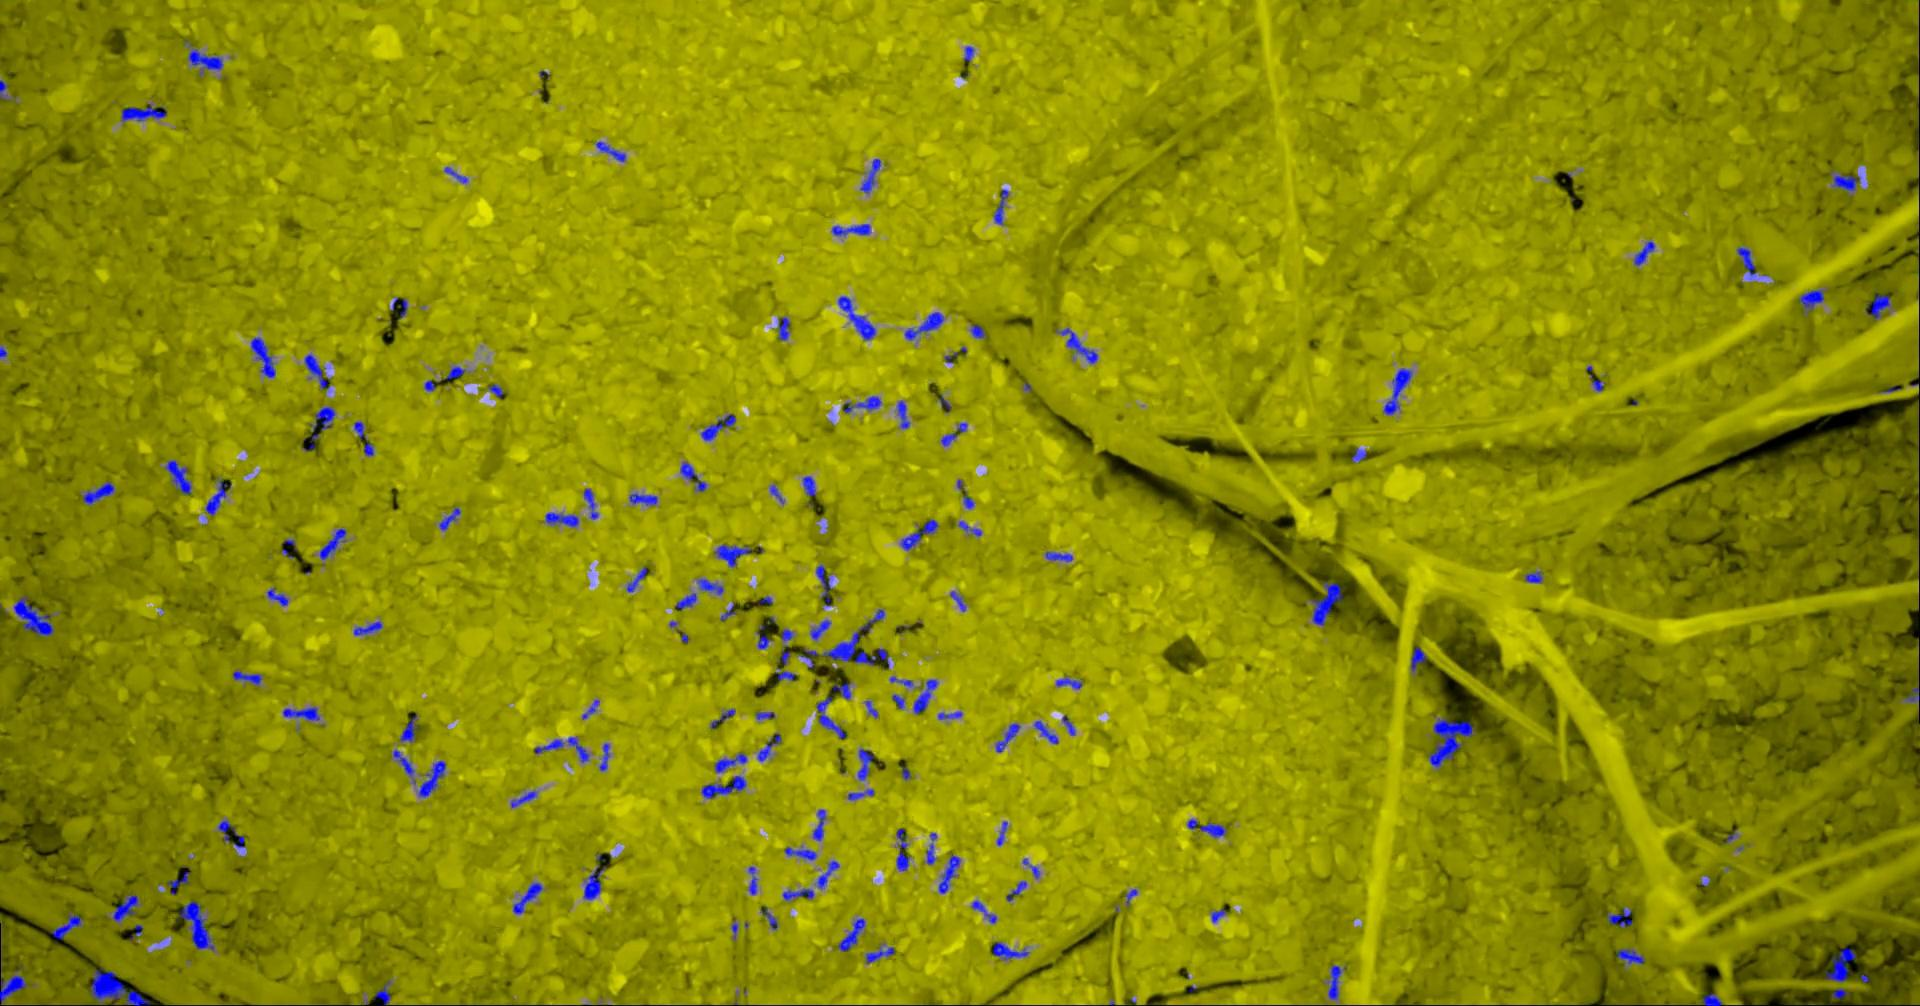ant: (797, 631, 888, 668), (1429, 716, 1476, 767), (0, 923, 28, 1005), (89, 969, 150, 1005), (178, 901, 213, 950), (13, 594, 53, 636), (837, 296, 875, 340), (1055, 326, 1097, 363), (1310, 580, 1343, 625), (535, 735, 589, 762), (302, 406, 335, 450), (1383, 368, 1412, 414), (817, 695, 844, 738), (900, 520, 938, 549), (904, 312, 943, 340), (700, 775, 745, 798), (250, 337, 276, 377), (1825, 948, 1855, 981), (188, 44, 222, 74), (204, 478, 231, 514), (418, 760, 444, 796), (512, 882, 542, 913), (700, 413, 735, 439), (164, 459, 190, 494), (303, 353, 329, 389), (837, 918, 863, 951), (912, 680, 937, 714), (938, 854, 960, 893), (714, 544, 750, 567), (319, 528, 345, 559), (51, 912, 81, 939), (121, 103, 165, 121), (679, 462, 706, 492), (583, 864, 604, 899), (83, 481, 114, 506), (217, 821, 245, 847), (858, 158, 880, 192), (1187, 818, 1225, 837), (996, 723, 1020, 752), (757, 732, 781, 761), (353, 420, 373, 455), (112, 894, 137, 921), (940, 422, 968, 446), (168, 864, 189, 894), (992, 941, 1029, 959), (842, 395, 881, 412), (714, 752, 745, 772), (815, 564, 830, 606), (817, 860, 839, 888), (1865, 293, 1890, 319), (858, 608, 884, 633), (1327, 964, 1345, 998), (1832, 174, 1860, 196), (596, 141, 625, 161), (1736, 246, 1756, 276), (895, 828, 909, 870), (1032, 720, 1058, 743), (392, 749, 414, 776), (399, 713, 419, 741), (971, 901, 996, 923), (1633, 240, 1655, 265), (1798, 290, 1823, 311), (993, 189, 1008, 224), (543, 512, 578, 527), (626, 567, 648, 591), (710, 708, 735, 728), (282, 706, 319, 720), (1903, 668, 1919, 701), (438, 507, 460, 530), (1608, 907, 1632, 927), (583, 488, 598, 520), (857, 748, 872, 780), (865, 946, 894, 963), (231, 669, 262, 685), (783, 846, 817, 860), (830, 224, 870, 235), (1004, 880, 1026, 901), (811, 809, 825, 840), (1617, 948, 1644, 963), (697, 578, 723, 594), (510, 790, 536, 807), (810, 619, 830, 639), (353, 621, 382, 635), (759, 906, 777, 929), (957, 520, 982, 536), (1410, 647, 1426, 671), (897, 400, 910, 428), (782, 888, 813, 901), (265, 587, 287, 605), (375, 981, 390, 1005), (582, 699, 599, 719), (949, 589, 965, 611), (629, 493, 657, 506), (444, 166, 467, 182), (847, 788, 874, 800), (676, 592, 696, 608), (1022, 857, 1039, 878), (1055, 676, 1081, 688), (926, 832, 936, 864), (830, 682, 850, 699), (598, 743, 610, 770), (775, 667, 796, 681), (776, 318, 789, 340), (996, 821, 1007, 845), (756, 631, 772, 648), (1045, 551, 1072, 561), (770, 484, 783, 503), (1062, 716, 1076, 735), (444, 366, 465, 379), (803, 475, 815, 495), (1702, 992, 1722, 1005), (1351, 447, 1366, 462), (889, 676, 912, 686), (777, 645, 789, 664), (970, 324, 985, 338), (488, 384, 503, 398), (748, 866, 756, 894), (1524, 572, 1542, 583), (937, 711, 963, 719), (1210, 909, 1225, 922), (1831, 988, 1849, 998), (891, 694, 904, 708), (399, 298, 408, 318), (963, 46, 973, 61), (963, 493, 973, 508), (780, 629, 792, 640), (756, 711, 775, 719), (1917, 399, 1919, 460)
